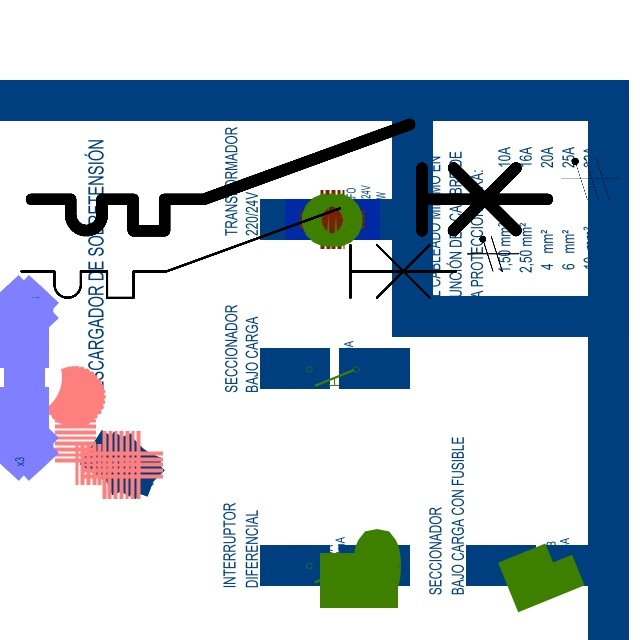interruptor_termomagnetico: (18, 111, 560, 244), (10, 197, 468, 309)
